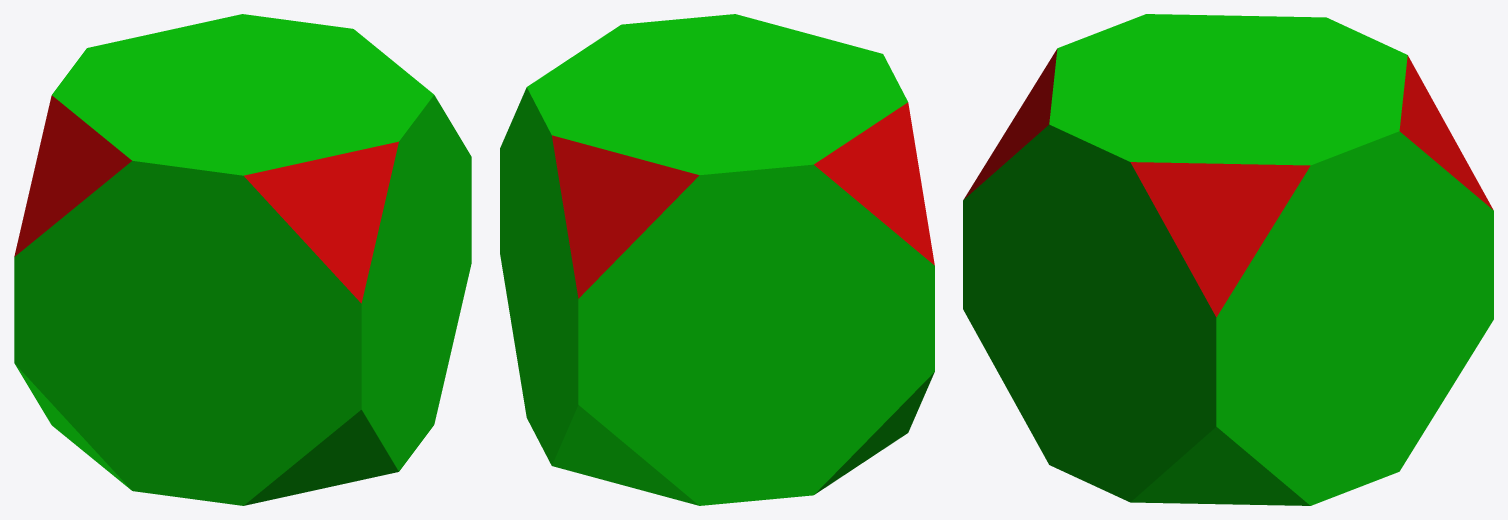
File: anim_cube_000058.obj
The picture shows the model from 3 angles, left to right: view 1: azimuth 30°, elevation 25°; view 2: azimuth 150°, elevation 25°; view 3: azimuth 270°, elevation 25°; orthographic projection. The views are drawn at different scales.
Visible parts, largest first — view 1: Cube_Cube.002_Material.002, Cube_Cube.002_Material.001; view 2: Cube_Cube.002_Material.002, Cube_Cube.002_Material.001; view 3: Cube_Cube.002_Material.002, Cube_Cube.002_Material.001.
Part boxes in pixels (x1,y1,x2,y2): Cube_Cube.002_Material.002: [14, 14, 471, 505]; Cube_Cube.002_Material.001: [14, 95, 398, 303]; Cube_Cube.002_Material.002: [500, 14, 934, 505]; Cube_Cube.002_Material.001: [552, 102, 934, 298]; Cube_Cube.002_Material.002: [963, 14, 1493, 505]; Cube_Cube.002_Material.001: [963, 49, 1493, 317].
Bounding box in the file's own units: 4.37 × 3.09 × 4.37.
